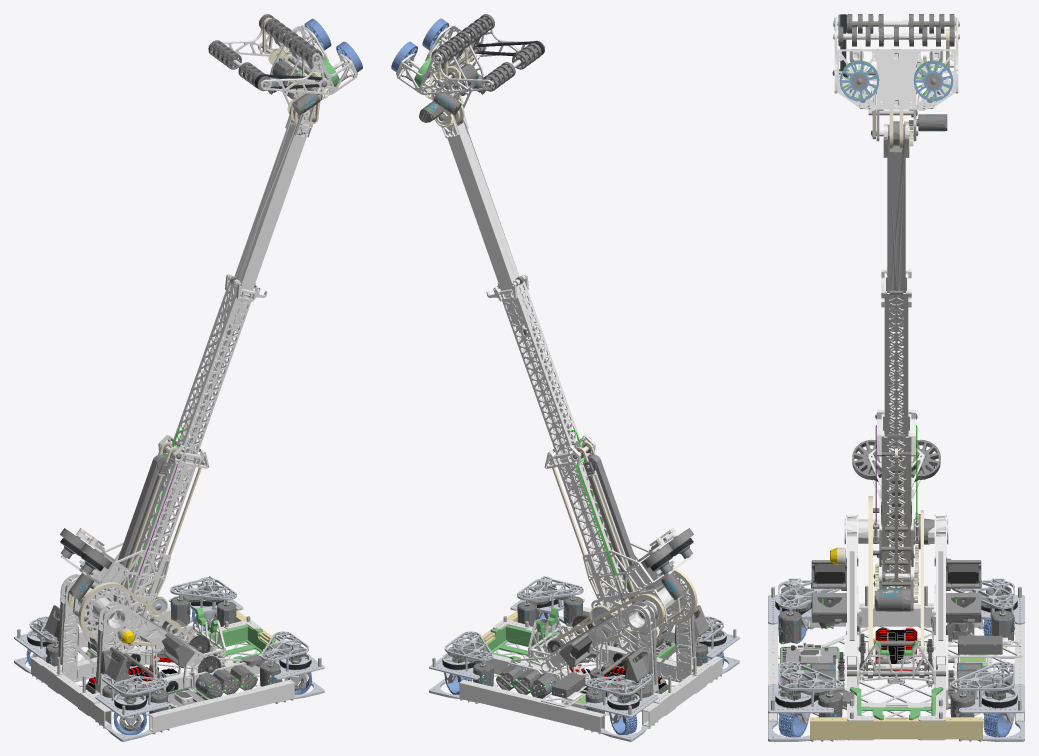
File: spectre-2910.glb
3 renders of one model, left to right at view 1: azimuth 30°, elevation 25°; view 2: azimuth 150°, elevation 25°; view 3: azimuth 270°, elevation 25°, orthographic. The views are drawn at different scales.
Parts seen in each view (by area): view 1: frame, arm, effector, elevator-stage, carriage, climber; view 2: frame, arm, effector, elevator-stage, carriage, climber; view 3: frame, effector, arm, elevator-stage, carriage, climber.
Boxes of the visible parts, x1,y1,x2,y2 form: frame: (14, 574, 324, 741); arm: (71, 430, 209, 653); effector: (208, 14, 362, 124); elevator-stage: (162, 274, 267, 494); carriage: (221, 107, 315, 334); climber: (60, 528, 170, 600); frame: (429, 567, 739, 741); arm: (544, 430, 692, 653); effector: (391, 14, 545, 127); elevator-stage: (486, 274, 591, 494); carriage: (441, 109, 532, 335); climber: (582, 528, 693, 600); frame: (768, 496, 1024, 741); effector: (832, 14, 959, 149); arm: (858, 409, 934, 611); elevator-stage: (881, 268, 911, 470); carriage: (883, 121, 909, 327); climber: (852, 439, 940, 566).
Bounding box in the file's own units: 0.962 × 2.07 × 0.6604.
